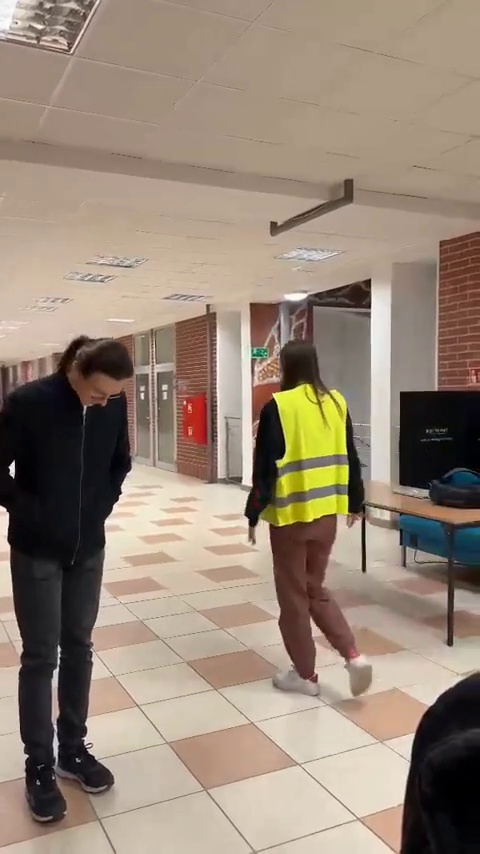no vest: (2, 334, 145, 836)
vest: (247, 340, 392, 691)
